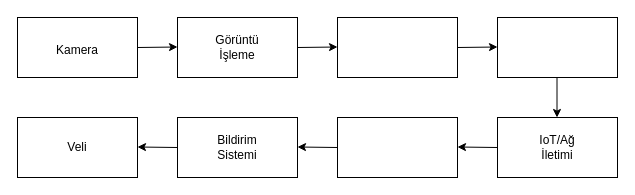
This 635x195 diagram has some shape labels left out. Each missing label, with the centre of its shape:
Uygulama Mantığı: (x=557, y=47)
Veritabanı: (x=397, y=147)
Yüz Tanıma: (x=397, y=47)
